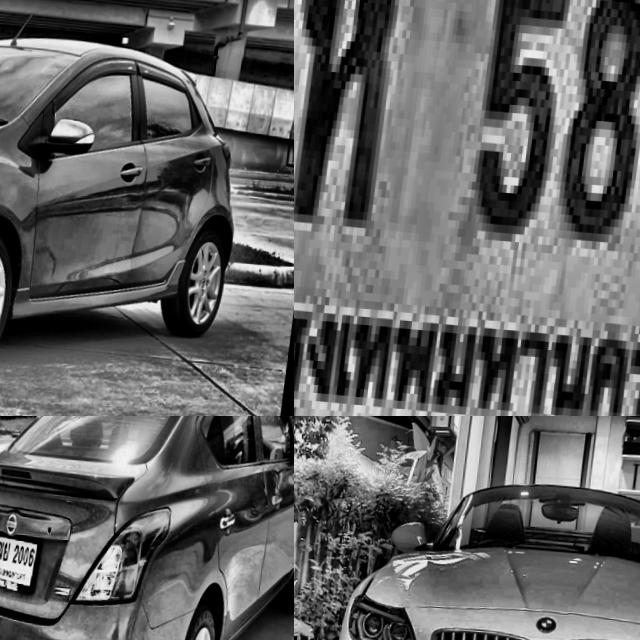license-plate: (294, 0, 640, 416), (0, 521, 54, 603)
